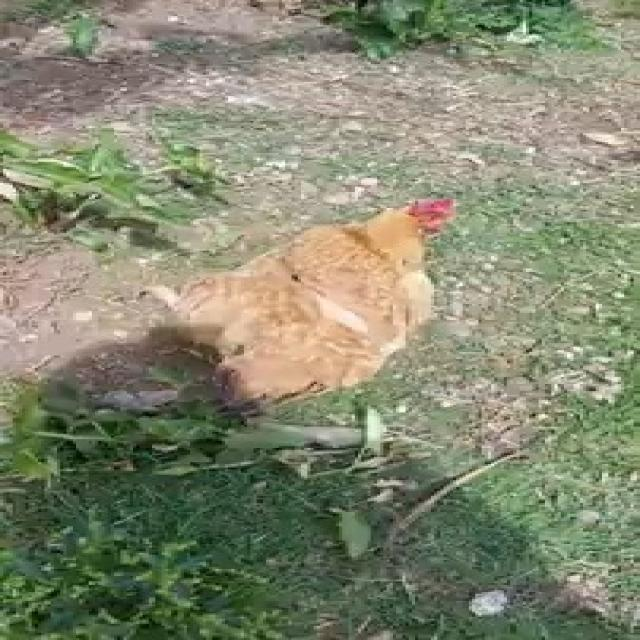leg stretching: (105, 174, 494, 409)
